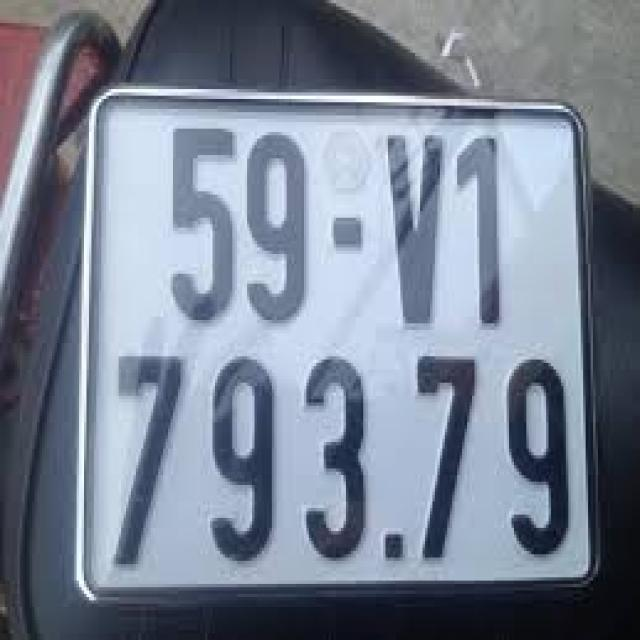a: (82, 77, 608, 640)
bien so: (9, 0, 608, 591)
